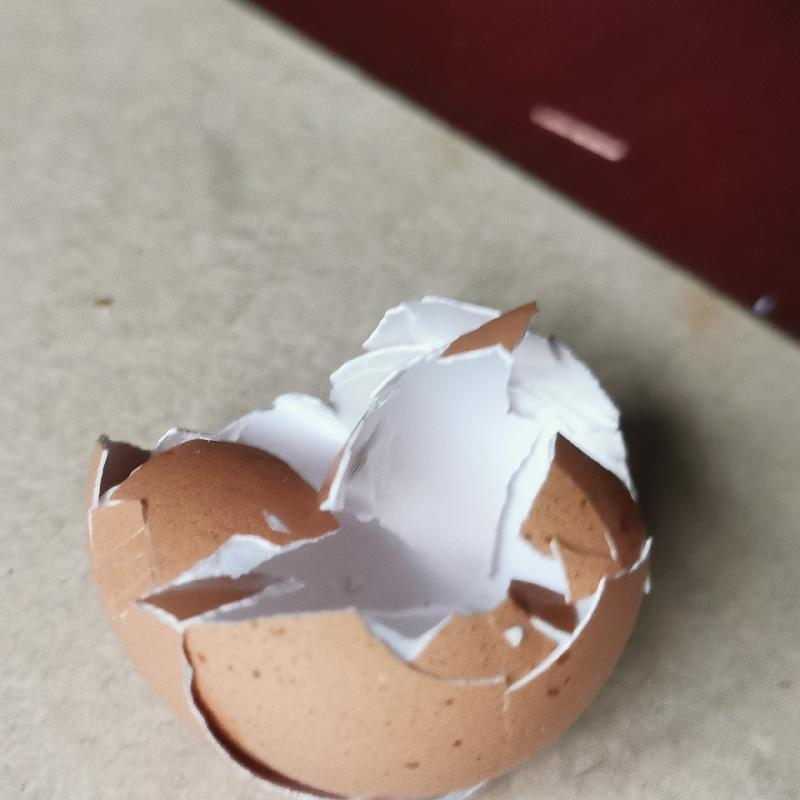eggshell: (86, 295, 657, 800)
